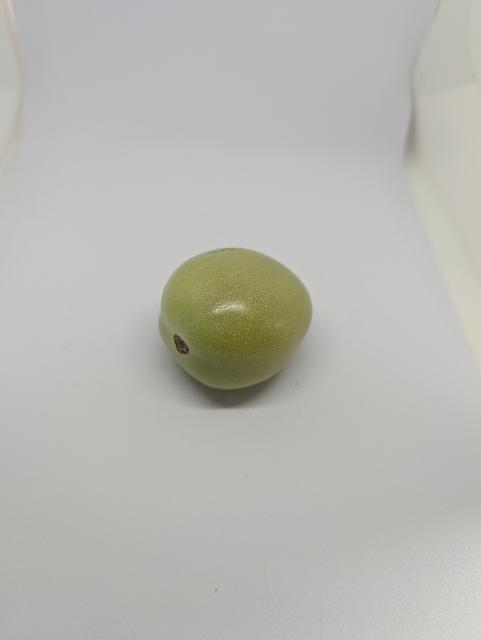green: (151, 240, 331, 404)
